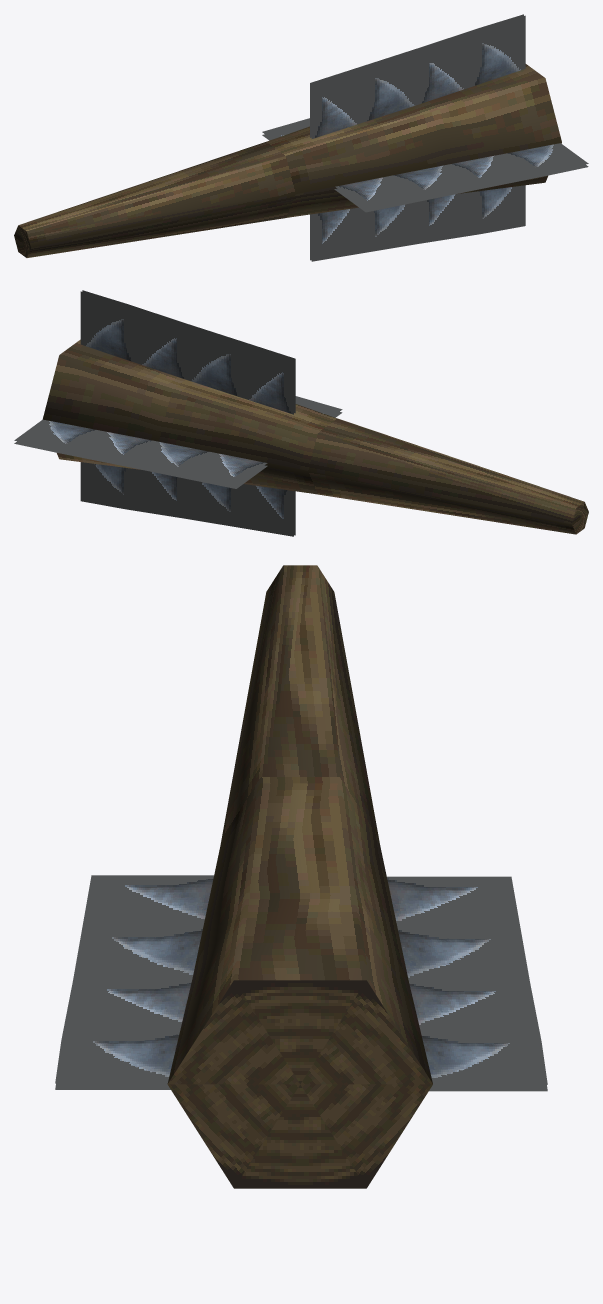
The picture shows the model from 3 angles, top to bottom: view 1: azimuth 30°, elevation 25°; view 2: azimuth 150°, elevation 25°; view 3: azimuth 270°, elevation 25°; orthographic projection. The views are drawn at different scales.
Visible parts, largest first — view 1: IT112_DMSPRITEDEF_node; view 2: IT112_DMSPRITEDEF_node; view 3: IT112_DMSPRITEDEF_node.
Boxes of the visible parts, left/top/right/bottom form: IT112_DMSPRITEDEF_node: left=14, top=14, right=588, bottom=261; IT112_DMSPRITEDEF_node: left=14, top=290, right=588, bottom=536; IT112_DMSPRITEDEF_node: left=55, top=565, right=547, bottom=1188.
Bounding box in the file's own units: 2.35 × 0.9336 × 0.9934.
3 materials, 3 textured.
